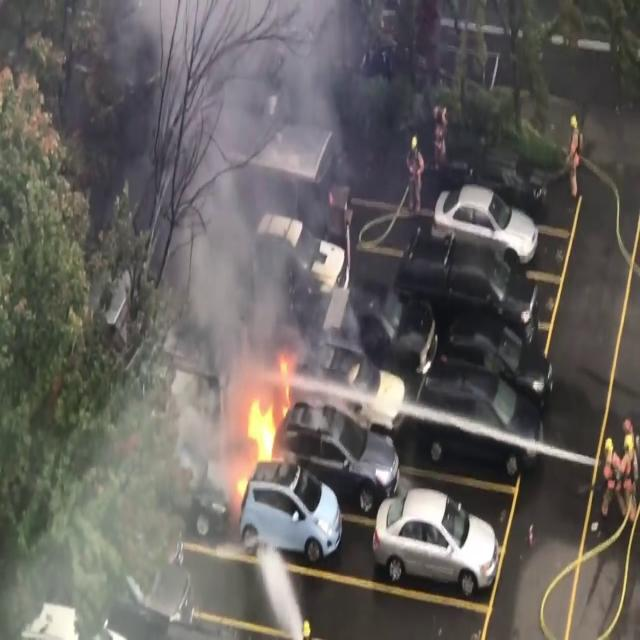Fire: (237, 352, 300, 470)
Smoke: (144, 0, 330, 366)
